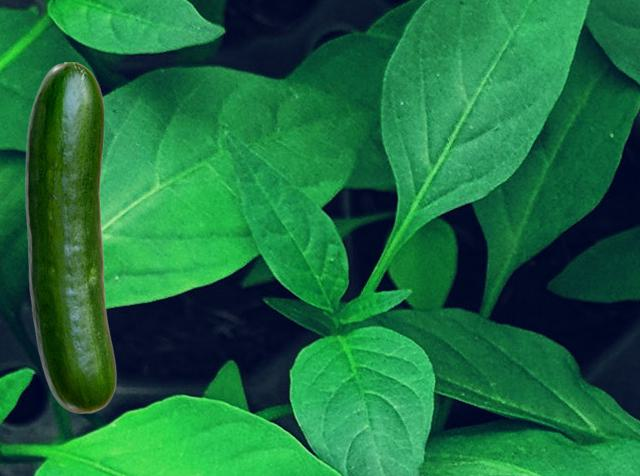cucumber: (25, 62, 115, 412)
